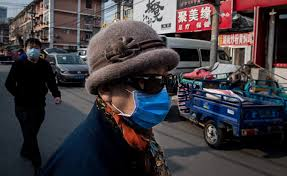mask: (68, 7, 187, 130), (24, 37, 43, 62)
